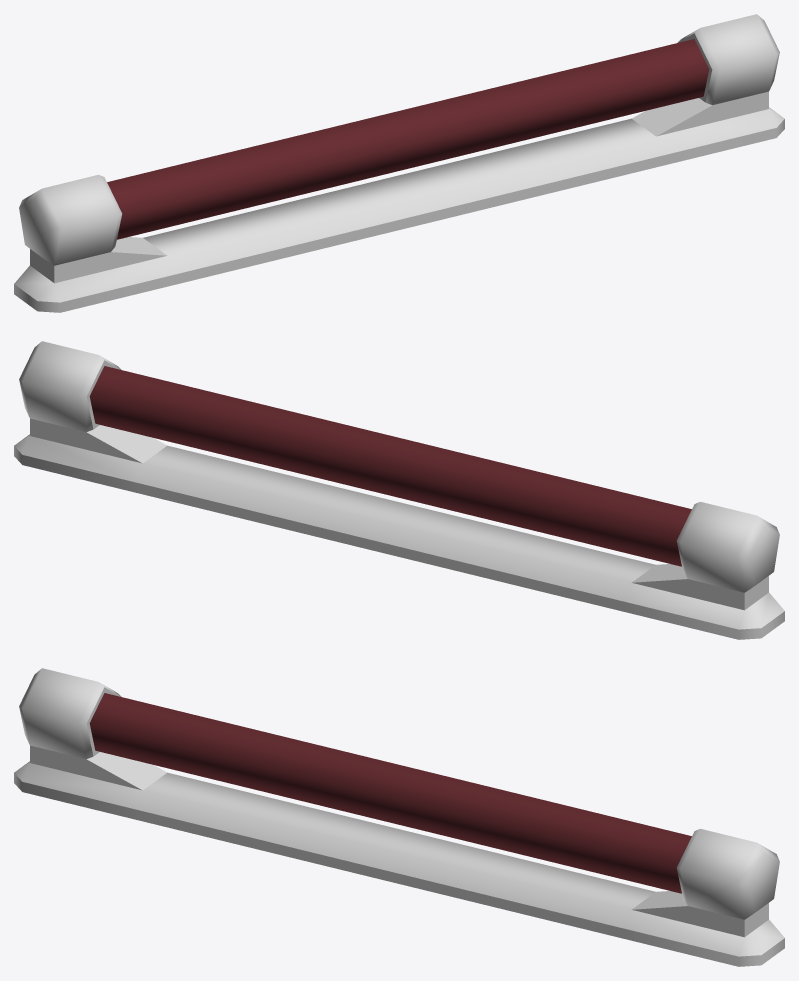
Rendered from fluorlight.fbx.
3 renders of one model, top to bottom at view 1: azimuth 30°, elevation 25°; view 2: azimuth 150°, elevation 25°; view 3: azimuth 330°, elevation 25°, orthographic.
Parts seen in each view (by area): view 1: lightSupport_low.001; view 2: lightSupport_low.001; view 3: lightSupport_low.001.
Boxes of the visible parts, box(x1,y1,x2,y2) form: lightSupport_low.001: box(14, 14, 784, 312); lightSupport_low.001: box(14, 341, 784, 639); lightSupport_low.001: box(14, 668, 784, 966).
Size of the model in its own units: 127 by 17.87 by 11.64.
